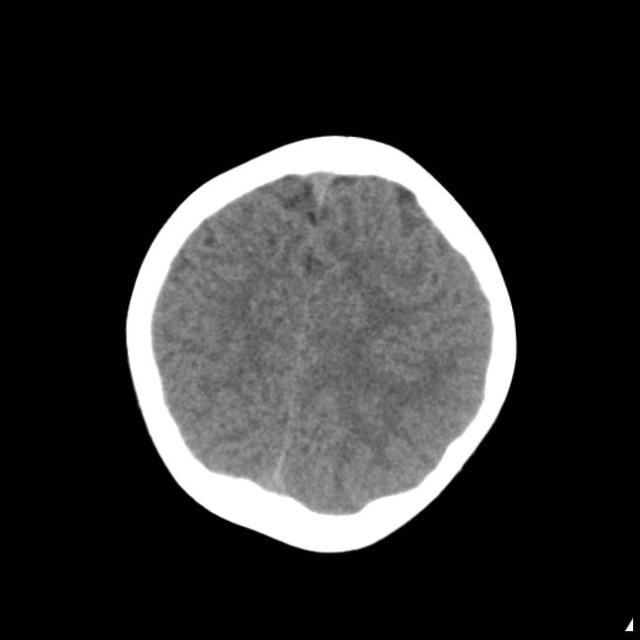lesion: (122, 132, 521, 554)
